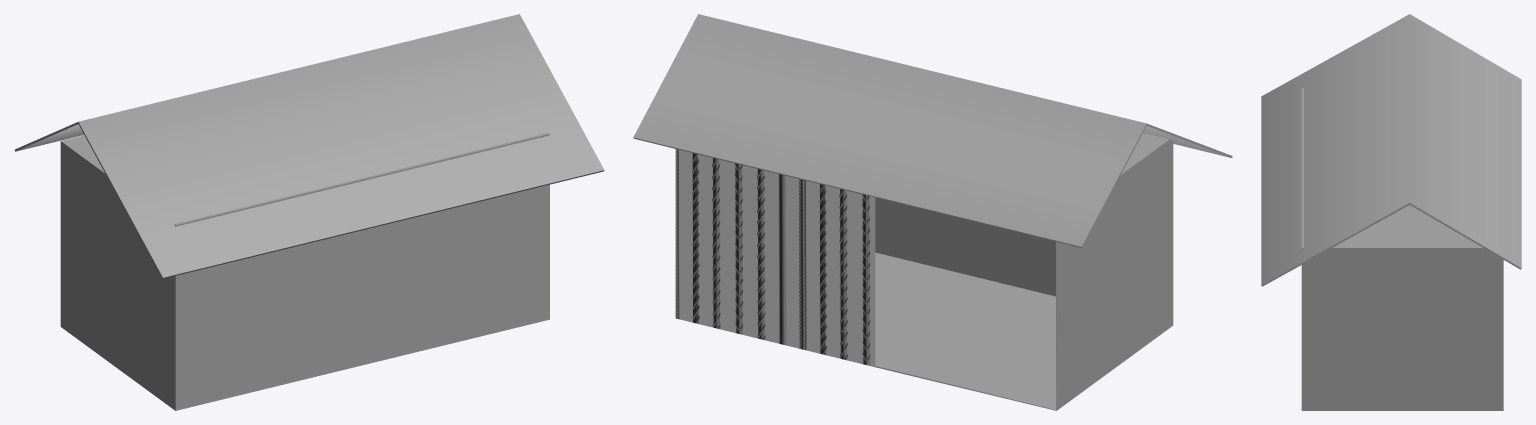
File: rabbit port.fbx
3 renders of one model, left to right at view 1: azimuth 30°, elevation 25°; view 2: azimuth 150°, elevation 25°; view 3: azimuth 270°, elevation 25°, orthographic. The views are drawn at different scales.
Parts seen in each view (by area): view 1: pPlane2, pCube9; view 2: pCube9, pPlane2; view 3: pPlane2, pCube9.
Boxes of the visible parts, box(x1,y1,x2,y2) form: pPlane2: box(14, 14, 604, 278); pCube9: box(60, 133, 549, 410); pCube9: box(675, 133, 1173, 410); pPlane2: box(633, 14, 1232, 247); pPlane2: box(1261, 14, 1521, 286); pCube9: box(1301, 88, 1503, 410).
Size of the model in its own units: 592 by 324 by 345.
Materials: 3 (1 with a texture image).
